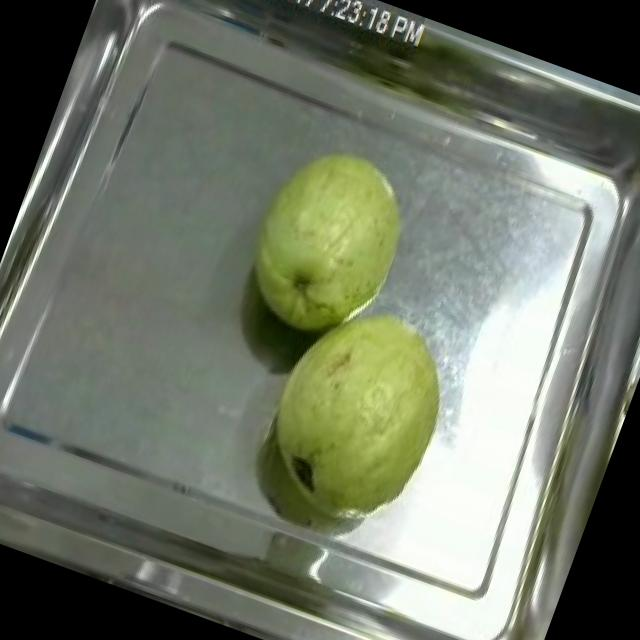Fruit: (231, 274, 478, 554), (218, 120, 436, 367)
